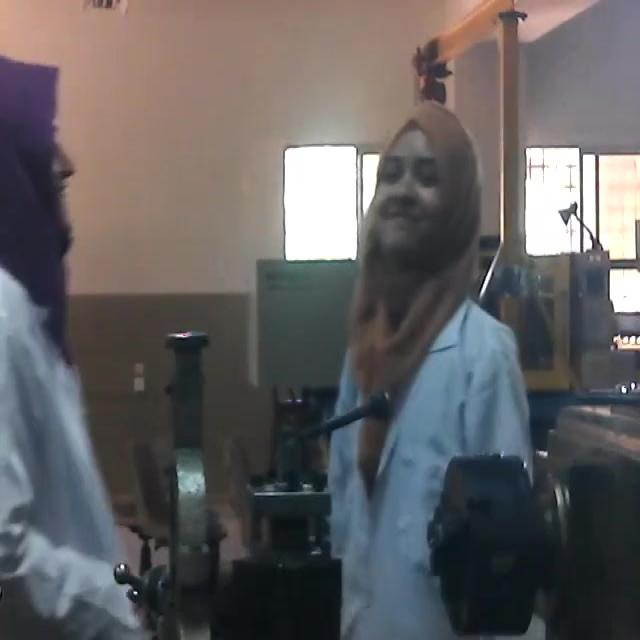labcoat: (328, 294, 538, 640), (0, 257, 141, 640)
